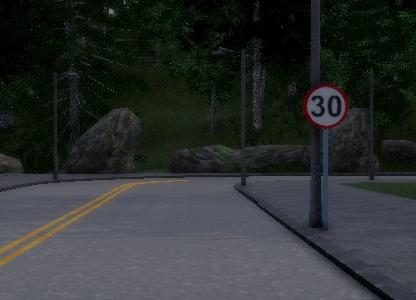Speed_30: (302, 79, 351, 128)
